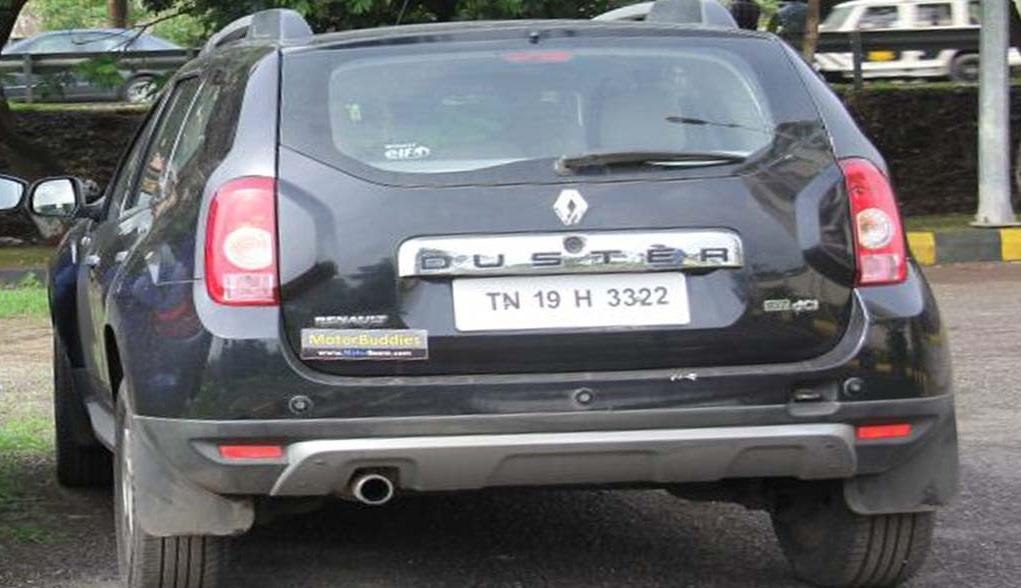License-Plate: (467, 271, 688, 336)
